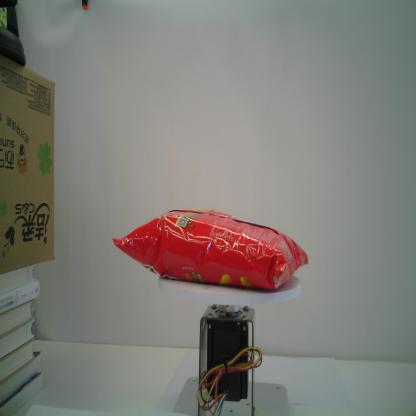Puffed Food: (112, 208, 308, 290)
